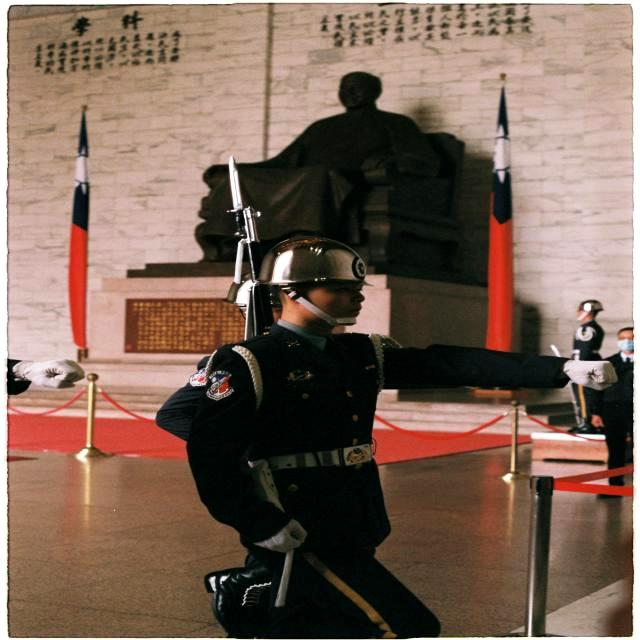hard_hat: (258, 236, 365, 286), (579, 300, 603, 313)
no_head_wear: (616, 321, 634, 339)
person: (156, 231, 569, 638), (606, 313, 640, 507), (572, 300, 604, 361)
